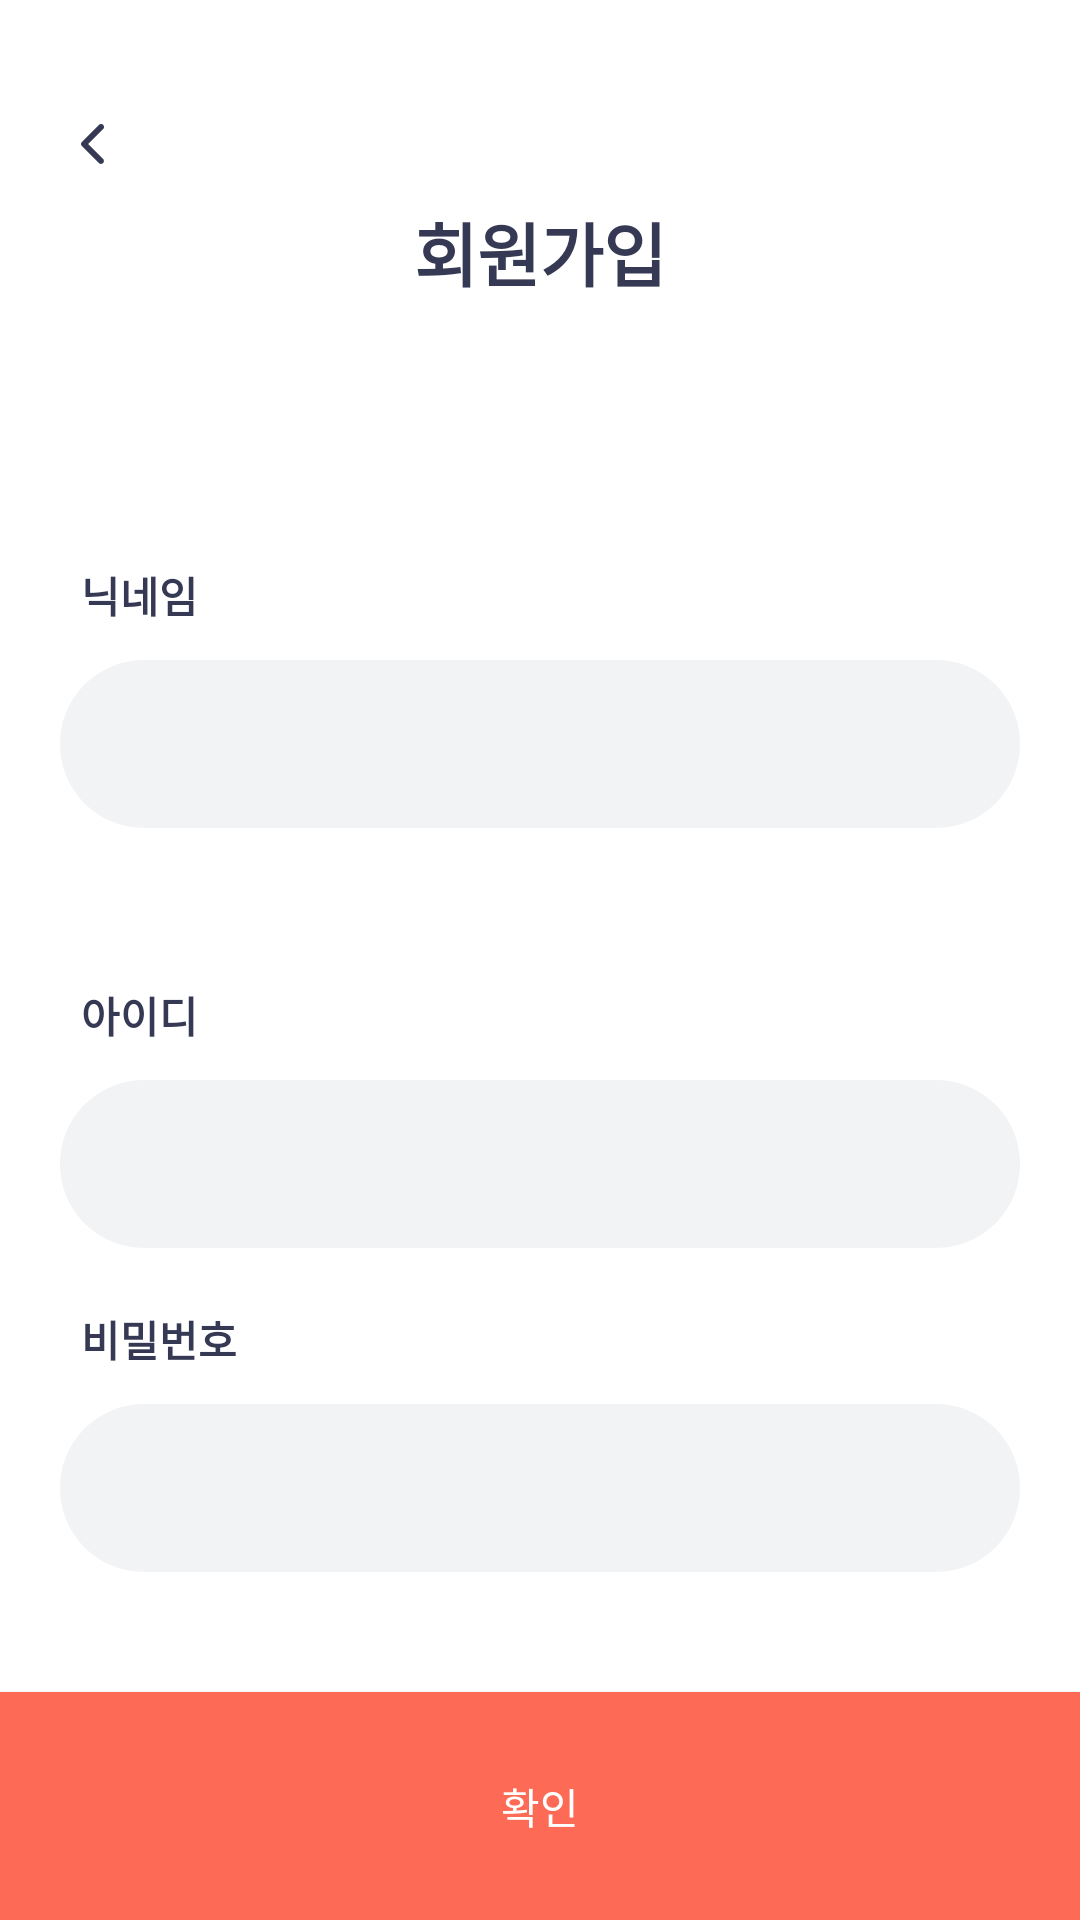

Screen size 1080px×1920px. Icon name, then its box in pixels as (x1, y1, x2, y2):
back arrow: (81, 124, 104, 164)
